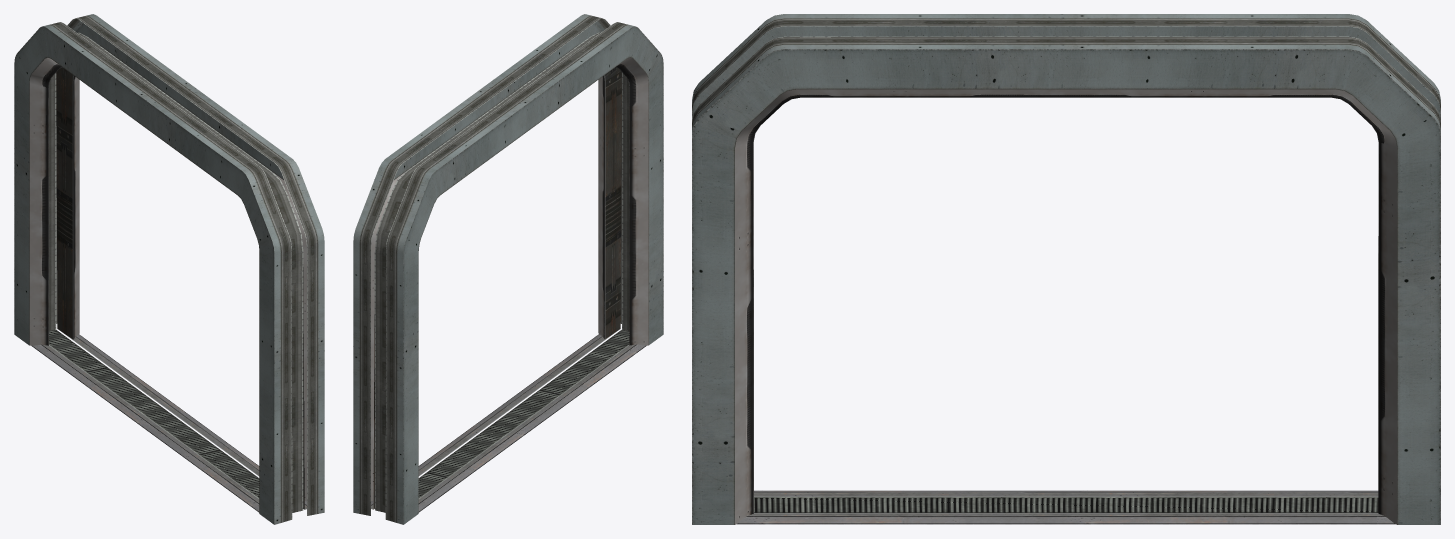
File: Door_frame_5mts_Thinner.fbx
The picture shows the model from 3 angles, left to right: view 1: azimuth 30°, elevation 25°; view 2: azimuth 150°, elevation 25°; view 3: azimuth 270°, elevation 25°; orthographic projection. The views are drawn at different scales.
Visible parts, largest first — view 1: Door_frame_5mts_Thinner; view 2: Door_frame_5mts_Thinner; view 3: Door_frame_5mts_Thinner.
Boxes of the visible parts, x1,y1,x2,y2 form: Door_frame_5mts_Thinner: (14, 14, 324, 524); Door_frame_5mts_Thinner: (353, 14, 663, 524); Door_frame_5mts_Thinner: (692, 14, 1440, 524).
Bounding box in the file's own units: 47.31 × 297 × 424.
1 material, 1 textured.
